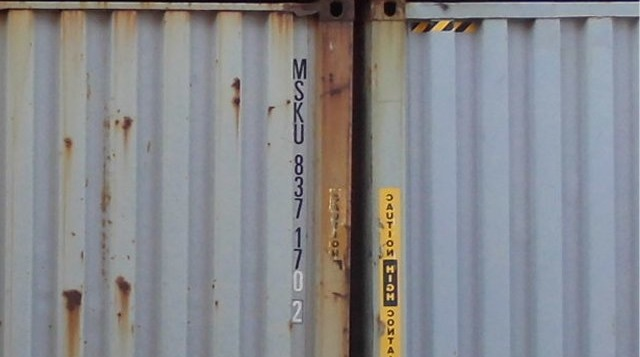container_no_door: (5, 2, 347, 357), (366, 1, 639, 357)
